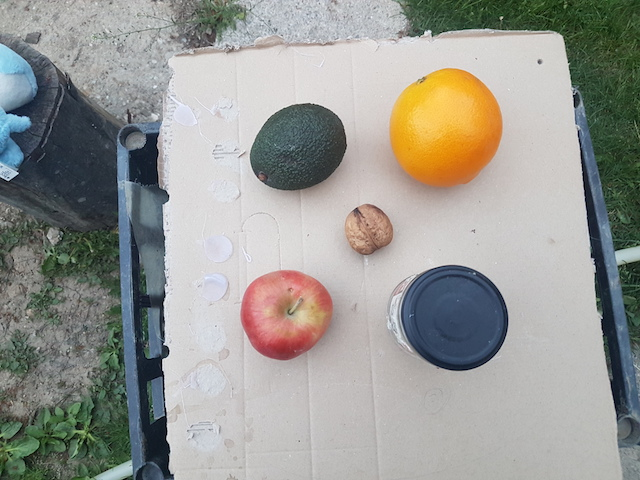apple: (238, 264, 333, 362)
avocado: (245, 98, 349, 193)
nut: (344, 202, 393, 254)
orange: (390, 65, 506, 189)
recipient: (403, 263, 511, 373)
